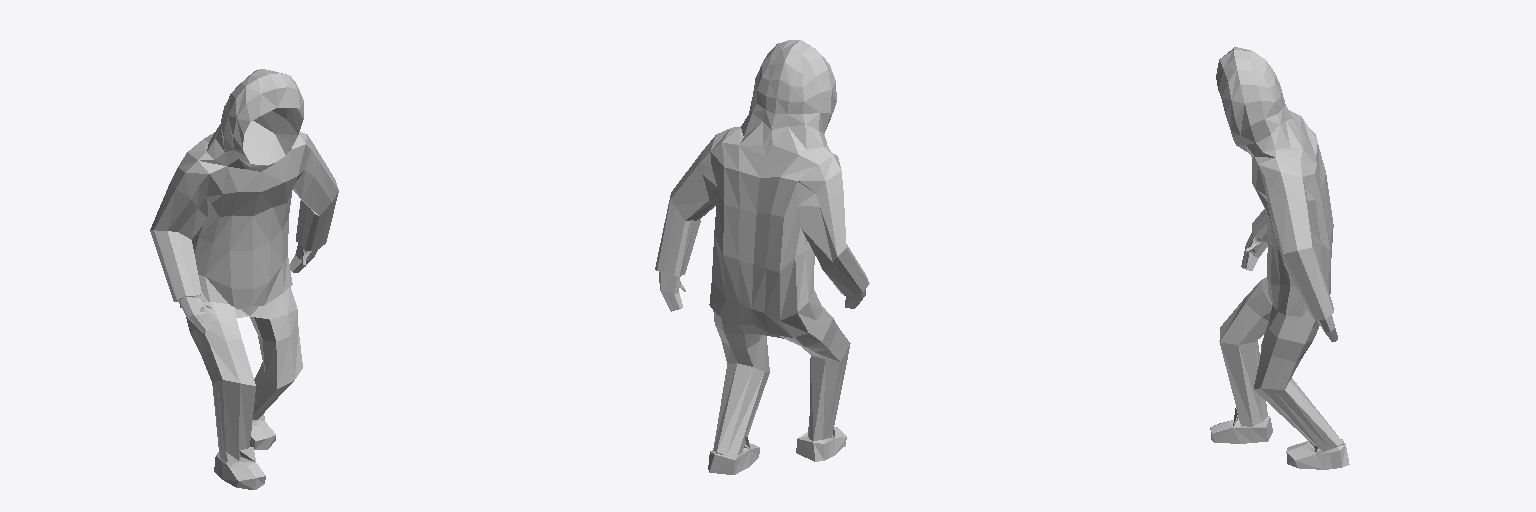
Rendered from Shadowmanv_000048.obj.
3 views of the same model, side by side, from view 1: azimuth 30°, elevation 25°; view 2: azimuth 150°, elevation 25°; view 3: azimuth 270°, elevation 25° (orthographic).
Parts seen in each view (by area): view 1: Cube.000; view 2: Cube.000; view 3: Cube.000.
Boxes of the visible parts, x1,y1,x2,y2 form: Cube.000: [150, 69, 338, 489]; Cube.000: [655, 40, 869, 474]; Cube.000: [1210, 47, 1349, 469].
Bounding box in the file's own units: 5.16 × 10.98 × 3.44.